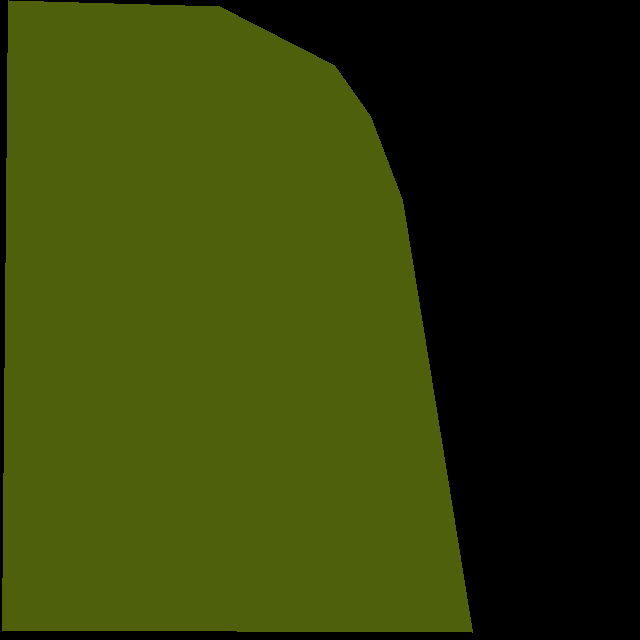Train: (2, 0, 473, 632)
